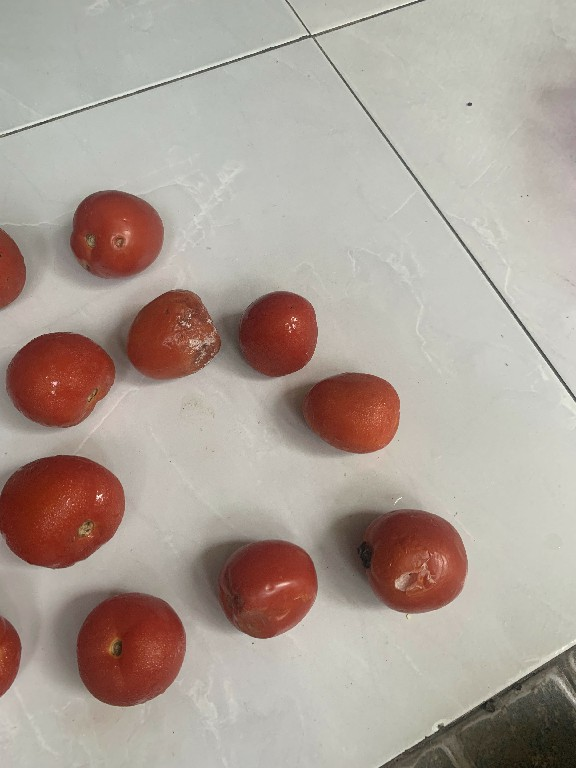NG: (349, 500, 472, 620), (65, 177, 168, 284), (122, 289, 228, 387)
OK: (0, 442, 133, 574), (63, 584, 193, 711), (209, 524, 324, 656), (1, 316, 122, 437), (301, 362, 413, 458), (230, 280, 321, 385)
